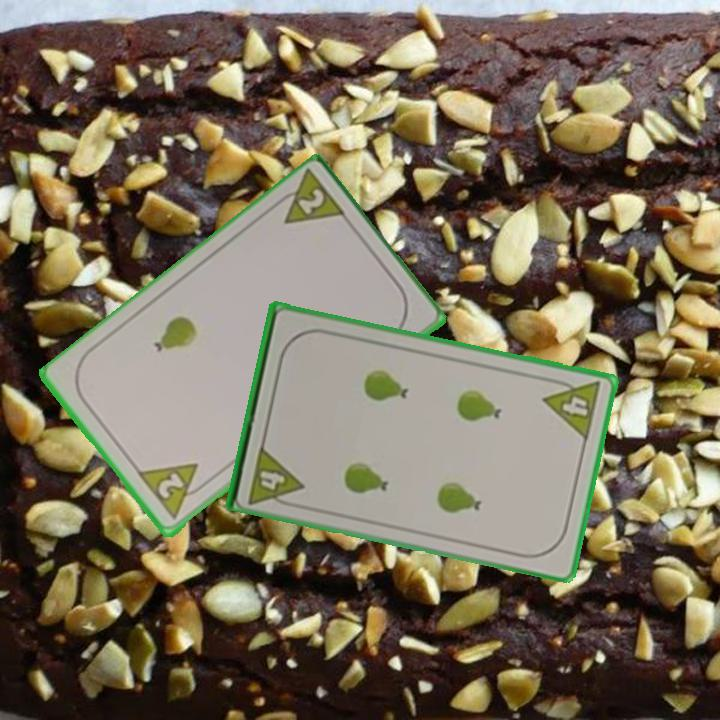2p: (134, 459, 213, 523), (269, 168, 350, 229)
4p: (540, 373, 605, 443), (244, 441, 306, 511)
